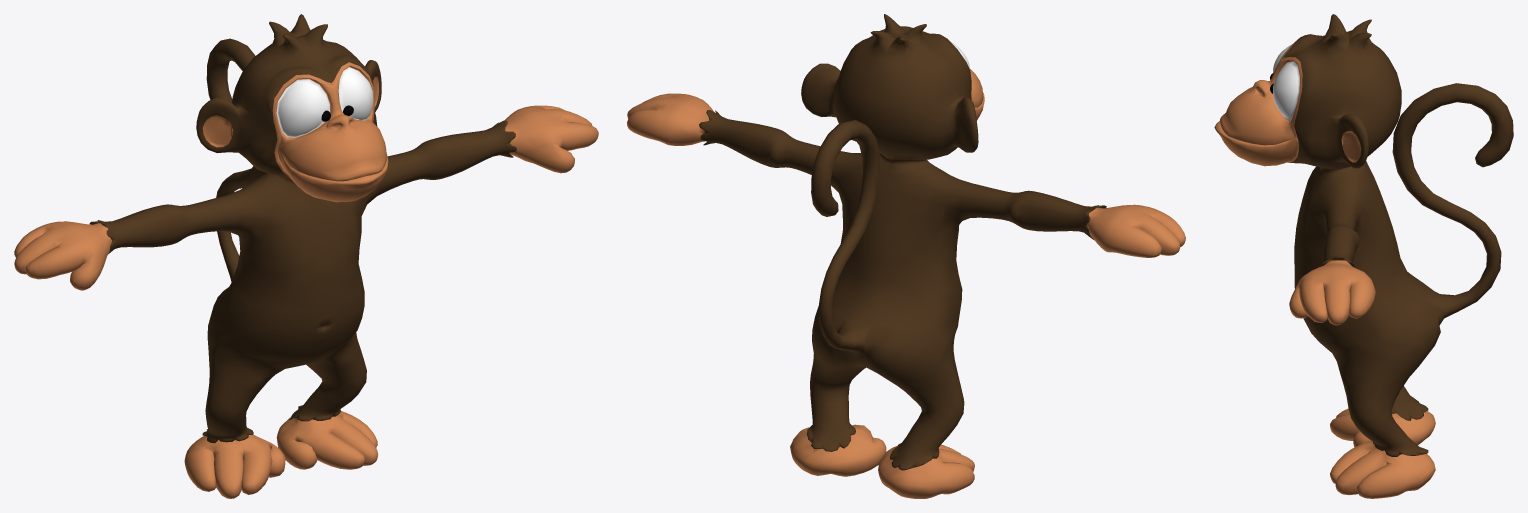
The model's file is cmonk_fbx.fbx.
3 renders of one model, left to right at view 1: azimuth 30°, elevation 25°; view 2: azimuth 150°, elevation 25°; view 3: azimuth 270°, elevation 25°, orthographic. The views are drawn at different scales.
Visible parts, largest first — view 1: CMonk; view 2: CMonk; view 3: CMonk.
Part boxes in pixels (x1=…): CMonk: x1=14, y1=14, x2=598, y2=498; CMonk: x1=627, y1=14, x2=1185, y2=498; CMonk: x1=1214, y1=14, x2=1513, y2=498.
Size of the model in its own units: 1245 by 946 by 585.
